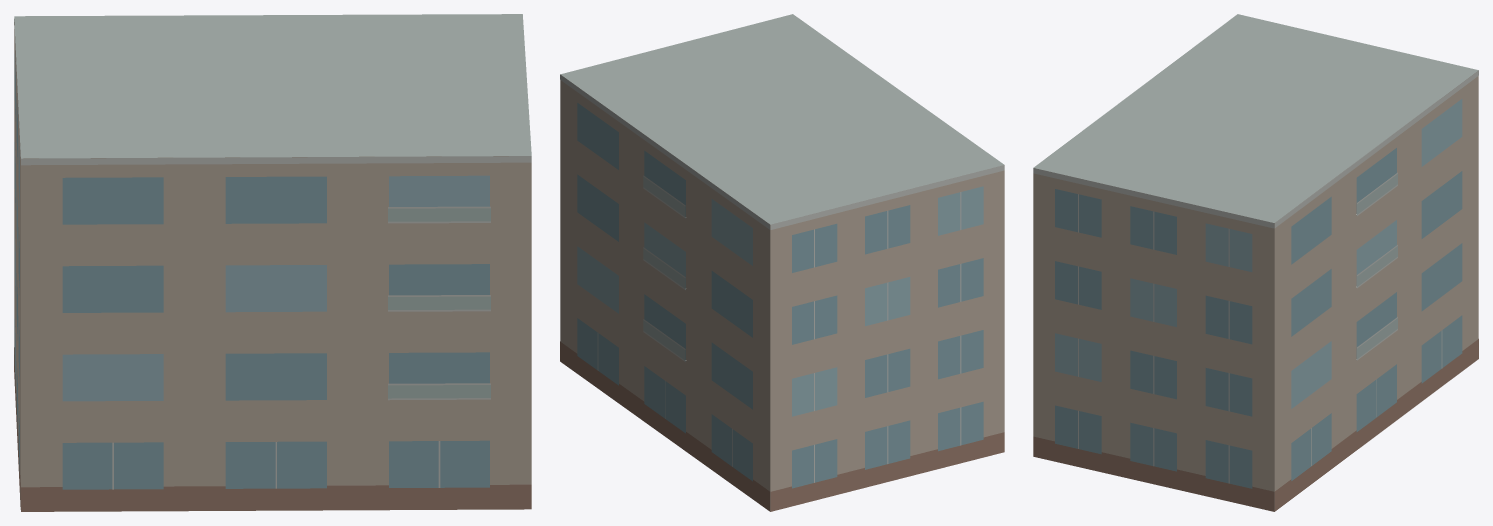
Rendered from survey-upis-32981226.glb.
3 views of the same model, side by side, from view 1: azimuth 30°, elevation 25°; view 2: azimuth 150°, elevation 25°; view 3: azimuth 270°, elevation 25° (orthographic). The views are drawn at different scales.
Parts seen in each view (by area): view 1: survey-upis-32981226.tmp; view 2: survey-upis-32981226.tmp; view 3: survey-upis-32981226.tmp.
Part boxes in pixels (bbox=[...]): survey-upis-32981226.tmp: bbox=[14, 14, 531, 511]; survey-upis-32981226.tmp: bbox=[560, 14, 1004, 511]; survey-upis-32981226.tmp: bbox=[1033, 14, 1478, 511].
Size of the model in its own units: 19.89 by 12.8 by 17.91.
